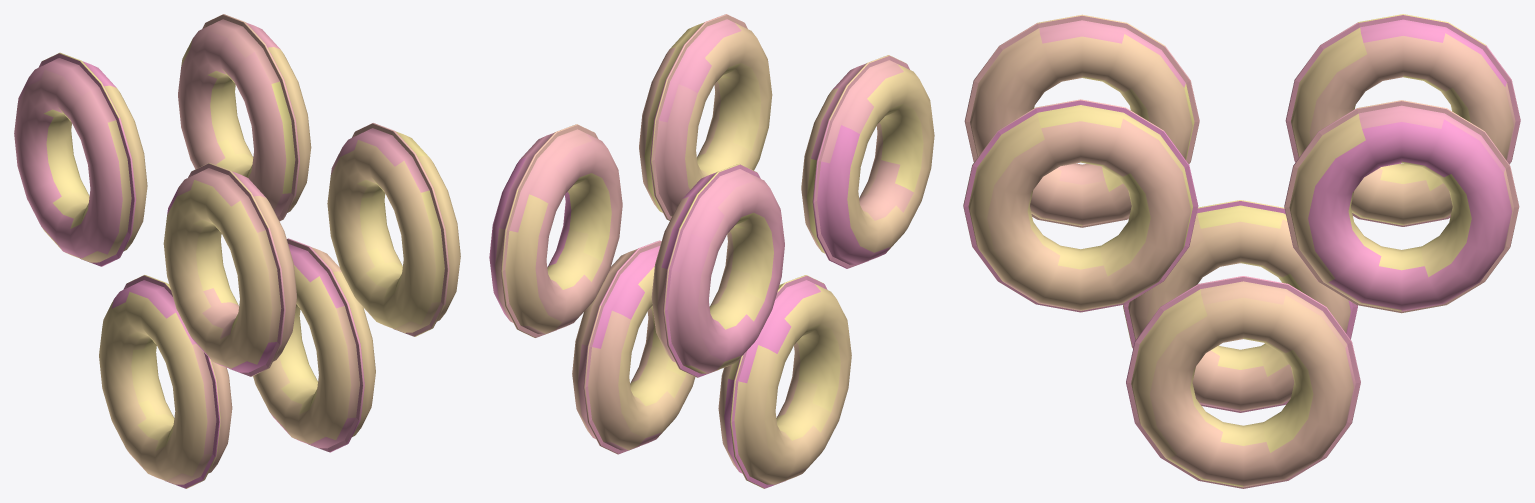
The model's file is Shop_Sign_Donuts.fbx.
3 views of the same model, side by side, from view 1: azimuth 30°, elevation 25°; view 2: azimuth 150°, elevation 25°; view 3: azimuth 270°, elevation 25° (orthographic). The views are drawn at different scales.
Parts seen in each view (by area): view 1: Donut_Sign; view 2: Donut_Sign; view 3: Donut_Sign.
Part boxes in pixels (x1=…): Donut_Sign: x1=14, y1=14, x2=460, y2=488; Donut_Sign: x1=489, y1=14, x2=934, y2=488; Donut_Sign: x1=963, y1=14, x2=1520, y2=488.
Size of the model in its own units: 133 by 219 by 281.
